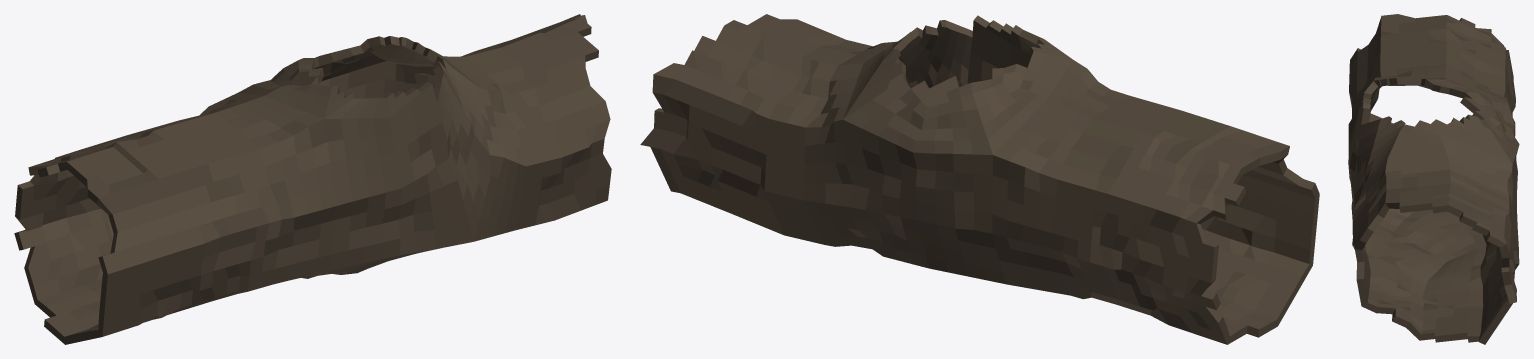
The model's file is FallenLog2.fbx.
The picture shows the model from 3 angles, left to right: view 1: azimuth 30°, elevation 25°; view 2: azimuth 150°, elevation 25°; view 3: azimuth 270°, elevation 25°; orthographic projection. The views are drawn at different scales.
Visible parts, largest first — view 1: Cube.001; view 2: Cube.001; view 3: Cube.001.
Boxes of the visible parts, x1=… form: Cube.001: x1=14, y1=14, x2=611, y2=344; Cube.001: x1=640, y1=14, x2=1319, y2=344; Cube.001: x1=1348, y1=14, x2=1519, y2=344.
Bounding box in the file's own units: 673 × 229 × 212.
